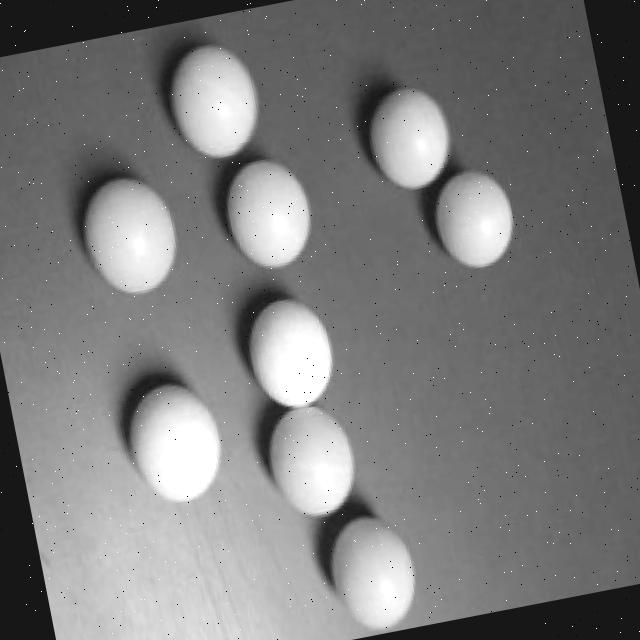ping-pong-ball: (120, 373, 236, 511), (74, 169, 184, 300), (162, 36, 268, 164), (216, 150, 322, 275), (237, 291, 342, 411), (261, 400, 363, 522), (325, 509, 426, 632), (364, 77, 458, 195), (427, 161, 522, 274)
